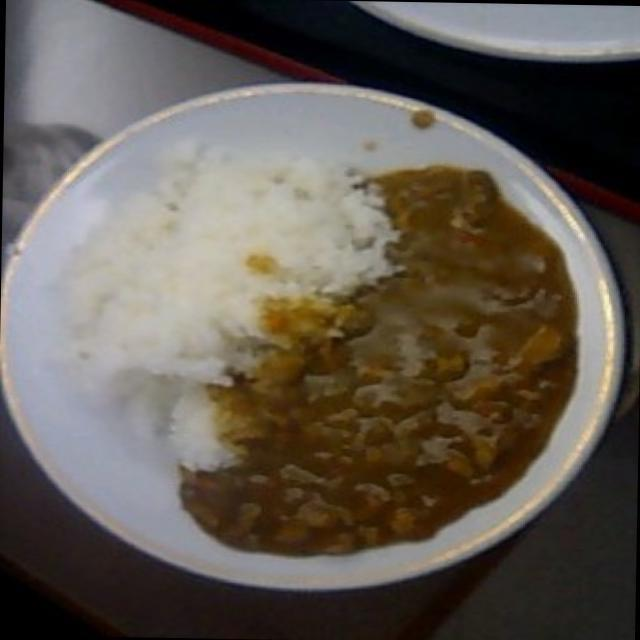Beef Curry: (298, 184, 586, 602)
